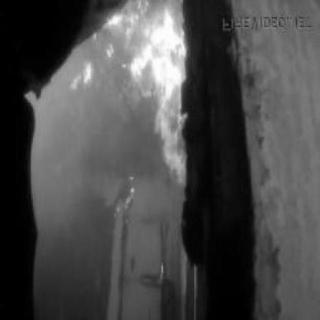Fire: (61, 10, 194, 192)
